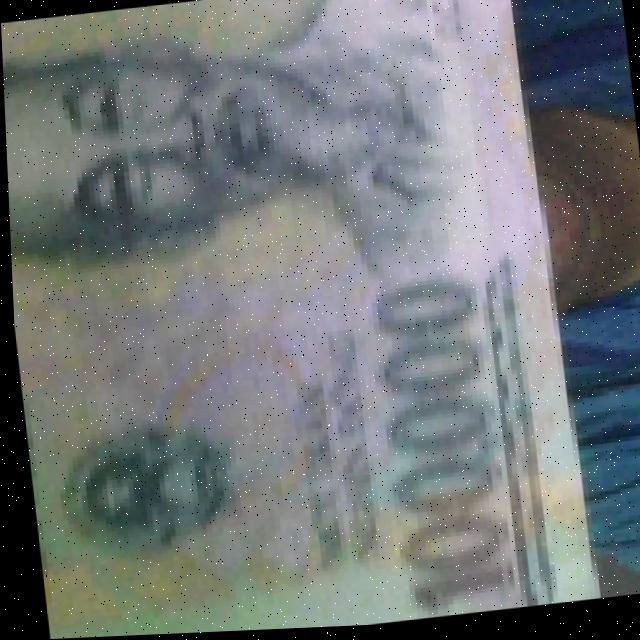100 000 VND: (0, 0, 583, 640)
